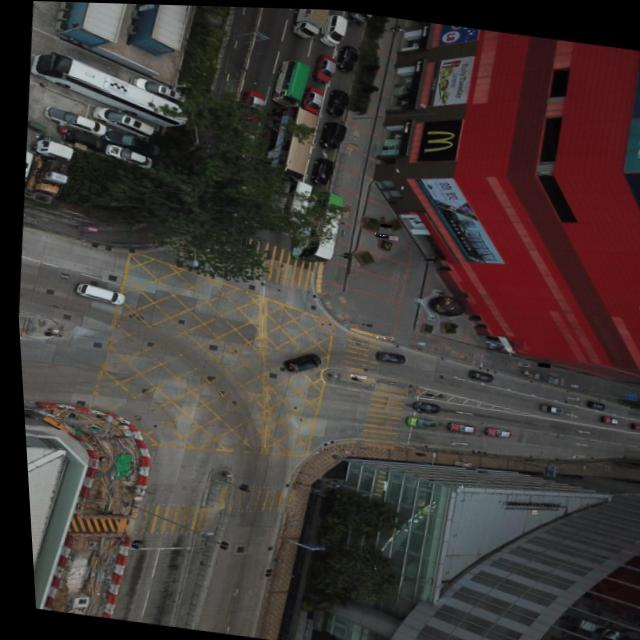Person: (448, 457, 464, 464), (369, 332, 389, 337), (344, 372, 360, 378), (371, 230, 384, 236), (532, 359, 544, 364), (512, 358, 524, 363), (383, 233, 393, 238), (451, 456, 461, 461), (376, 221, 388, 225), (368, 332, 382, 335)
